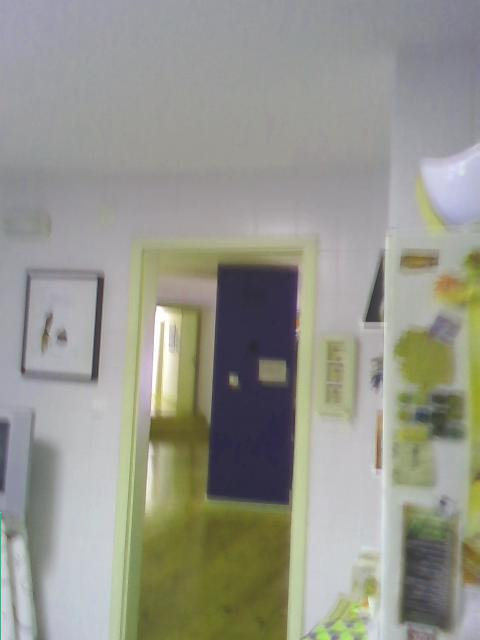open_door: (110, 230, 318, 638)
